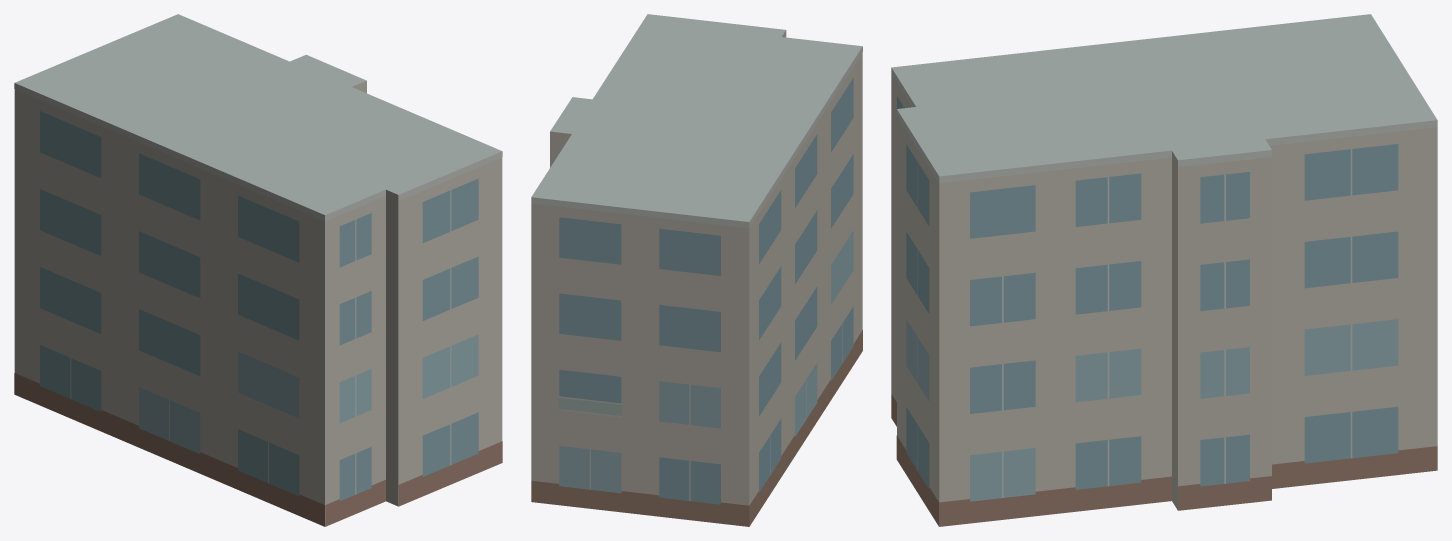
Rendered from survey-upis-33006032.glb.
3 views of the same model, side by side, from view 1: azimuth 30°, elevation 25°; view 2: azimuth 150°, elevation 25°; view 3: azimuth 270°, elevation 25° (orthographic). The views are drawn at different scales.
Parts seen in each view (by area): view 1: survey-upis-33006032.tmp; view 2: survey-upis-33006032.tmp; view 3: survey-upis-33006032.tmp.
Part boxes in pixels (x1,y1,x2,y2): survey-upis-33006032.tmp: (14,14,502,526); survey-upis-33006032.tmp: (531,14,862,526); survey-upis-33006032.tmp: (891,14,1437,526).
Size of the model in its own units: 12.14 by 12.2 by 17.25.
